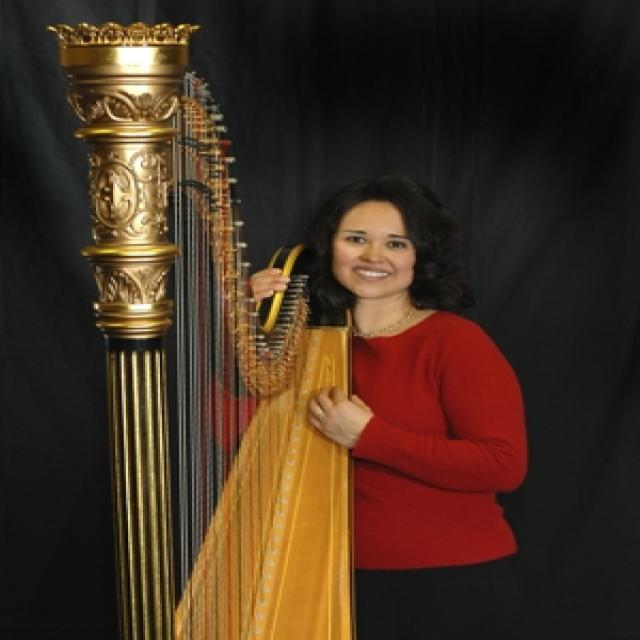harp: (33, 14, 376, 640)
